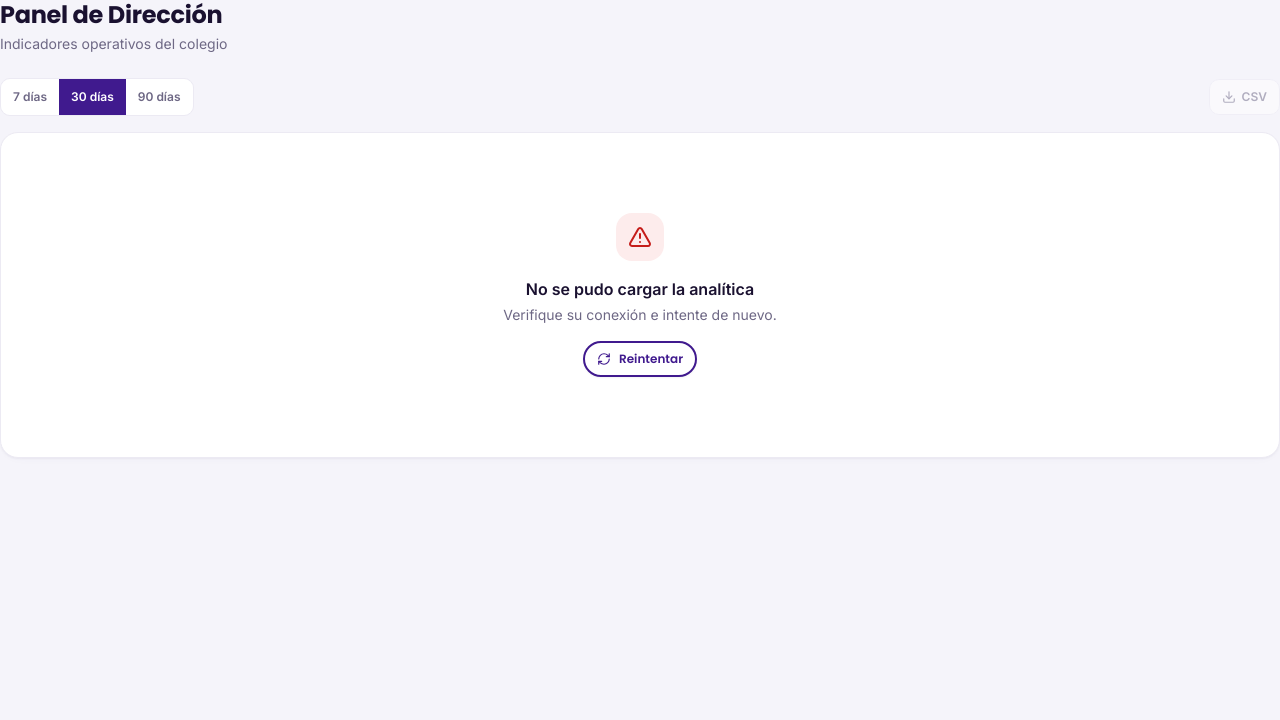
Test: StaffDashboard states (IK-ADMIN item 8) › shows an error state with a working retry
Expected: the text "No se pudo cargar la analítica" is shown, [526,277,754,301]
Step 1. Click the button "Reintentar" → (640, 359), box [583,341,697,377]
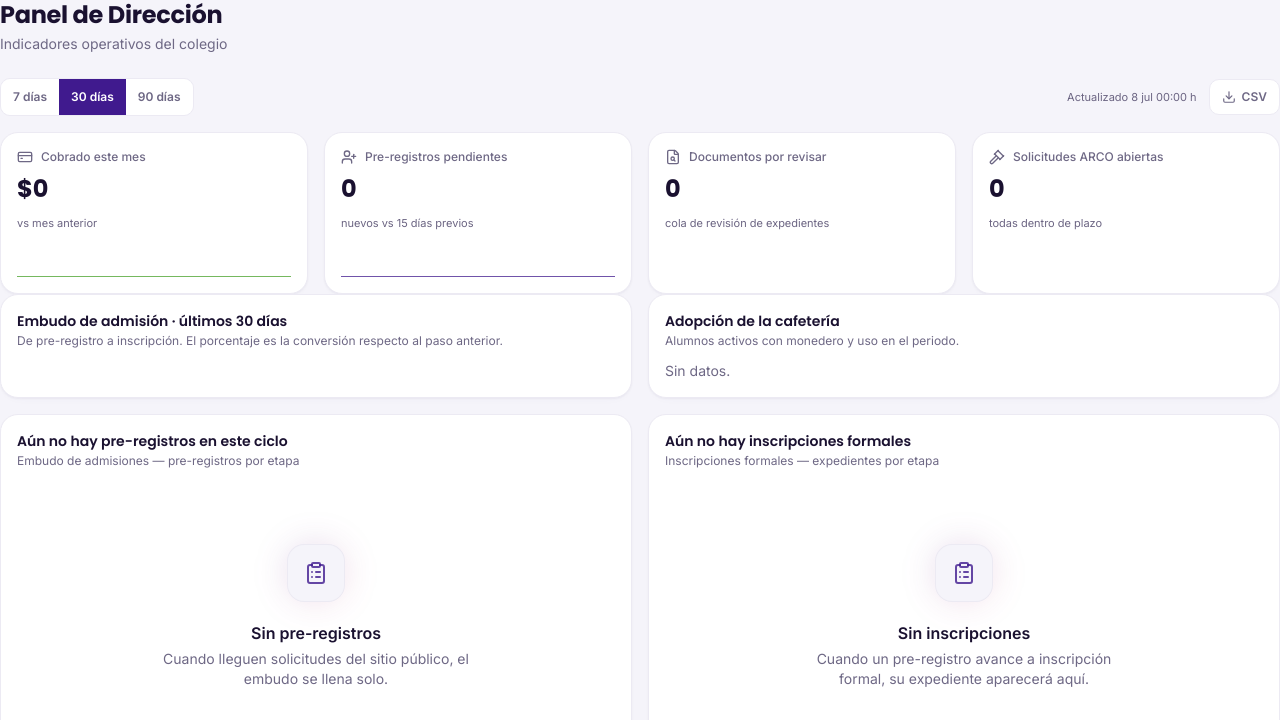
Expected: the text "No se pudo cargar la analítica" is gone
